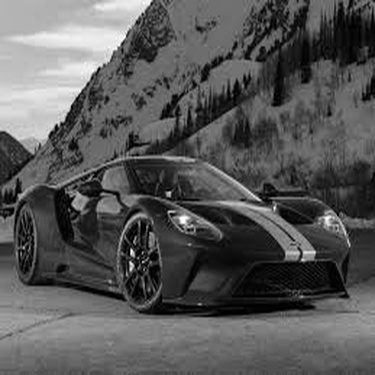car: (7, 152, 361, 317)
